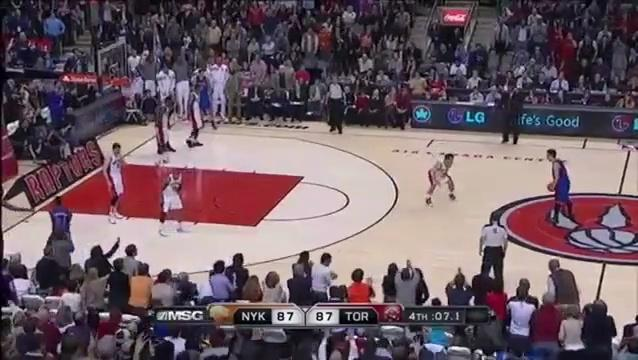Backboard: (99, 39, 127, 96)
Ball: (547, 182, 555, 192)
Basket: (116, 77, 135, 97)
Person: (101, 139, 134, 222), (546, 146, 579, 224), (159, 170, 191, 236), (44, 195, 77, 255), (425, 154, 460, 206), (192, 69, 219, 131), (152, 94, 176, 157), (184, 83, 204, 150)
Referee: (476, 212, 510, 285), (326, 81, 349, 134)
